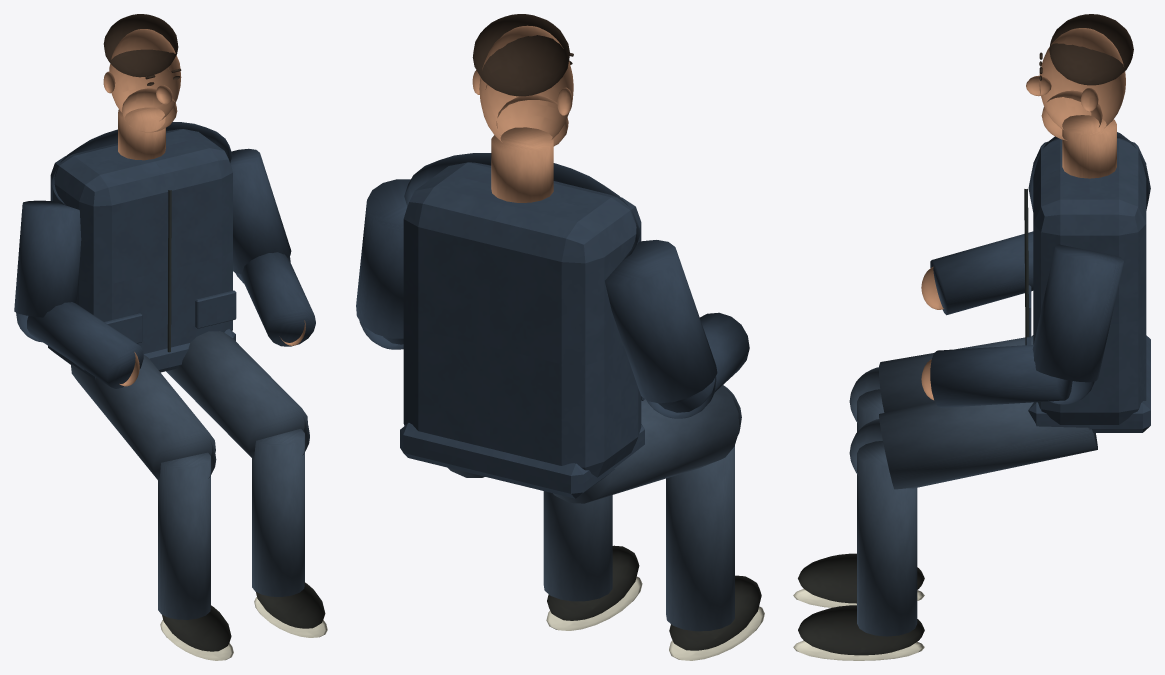
Rendered from guest_seated_a.glb.
3 views of the same model, side by side, from view 1: azimuth 30°, elevation 25°; view 2: azimuth 150°, elevation 25°; view 3: azimuth 270°, elevation 25° (orthographic). The views are drawn at different scales.
Visible parts, largest first — view 1: Character_static_mesh.001; view 2: Character_static_mesh.001; view 3: Character_static_mesh.001.
Part boxes in pixels (x1,y1,x2,y2): Character_static_mesh.001: (14, 14, 327, 660); Character_static_mesh.001: (356, 14, 764, 660); Character_static_mesh.001: (793, 14, 1150, 660).
Size of the model in its own units: 0.7466 by 1.43 by 0.76.
Materials: 7 (7 with a texture image).
